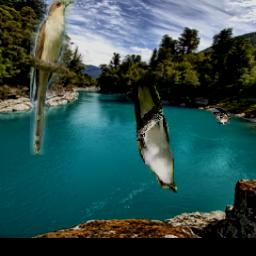Cuckoo: (31, 0, 75, 156), (134, 83, 177, 192)
Swallow: (213, 108, 231, 127)
